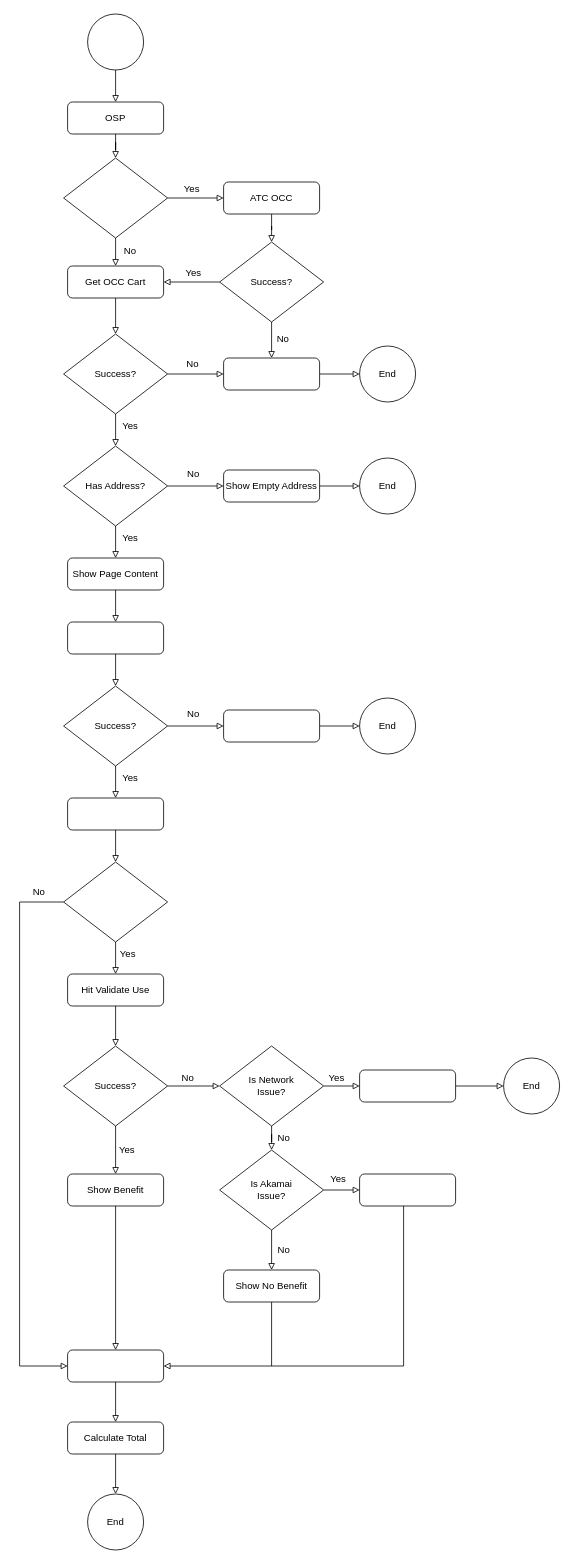
Image size: 574x1564. Some labels were removed from this diagram. The centre of each missing label's shape, as x and y in pixels:
Get Payment Fee: (115,1365)
Get RatesV3: (115,637)
Has product_id param?: (115,197)
Has Promo?: (115,901)
Reset Promo: (407,1189)
Show Global Error: (271,373)
Show Logistic: (115,813)
Show Logistic Error: (271,725)
Show Promo Error: (407,1085)
Start: (115,41)
